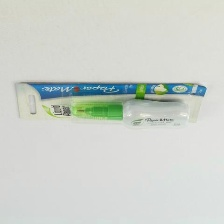book: (11, 80, 210, 125)
correction_fluid: (71, 96, 192, 129)
